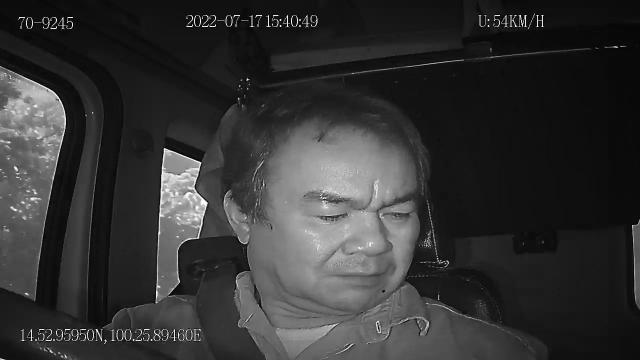SafeDriving: (300, 198, 356, 228), (372, 197, 419, 225)
Seatbelt: (194, 262, 268, 360)
